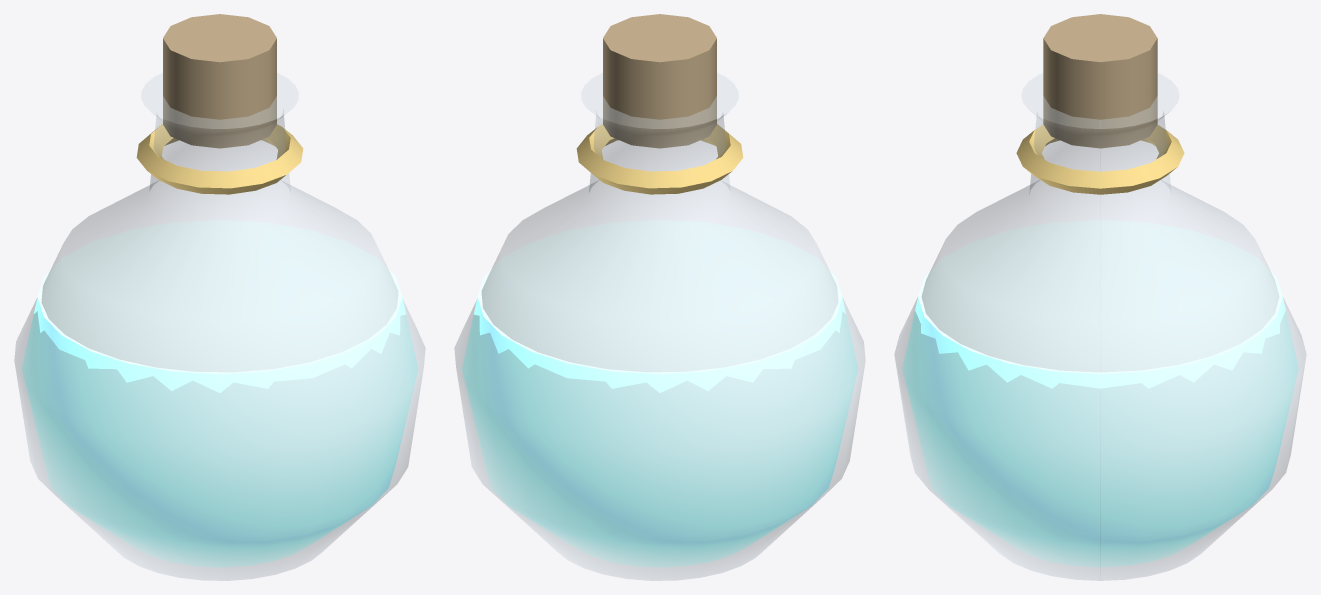
The model's file is potion.glb.
3 renders of one model, left to right at view 1: azimuth 30°, elevation 25°; view 2: azimuth 150°, elevation 25°; view 3: azimuth 270°, elevation 25°, orthographic.
Parts seen in each view (by area): view 1: potion; view 2: potion; view 3: potion.
Boxes of the visible parts, left/top/right/bottom form: potion: left=14, top=14, right=425, bottom=580; potion: left=454, top=14, right=865, bottom=580; potion: left=894, top=14, right=1306, bottom=580.
Bounding box in the file's own units: 0.26 × 0.35 × 0.26.
